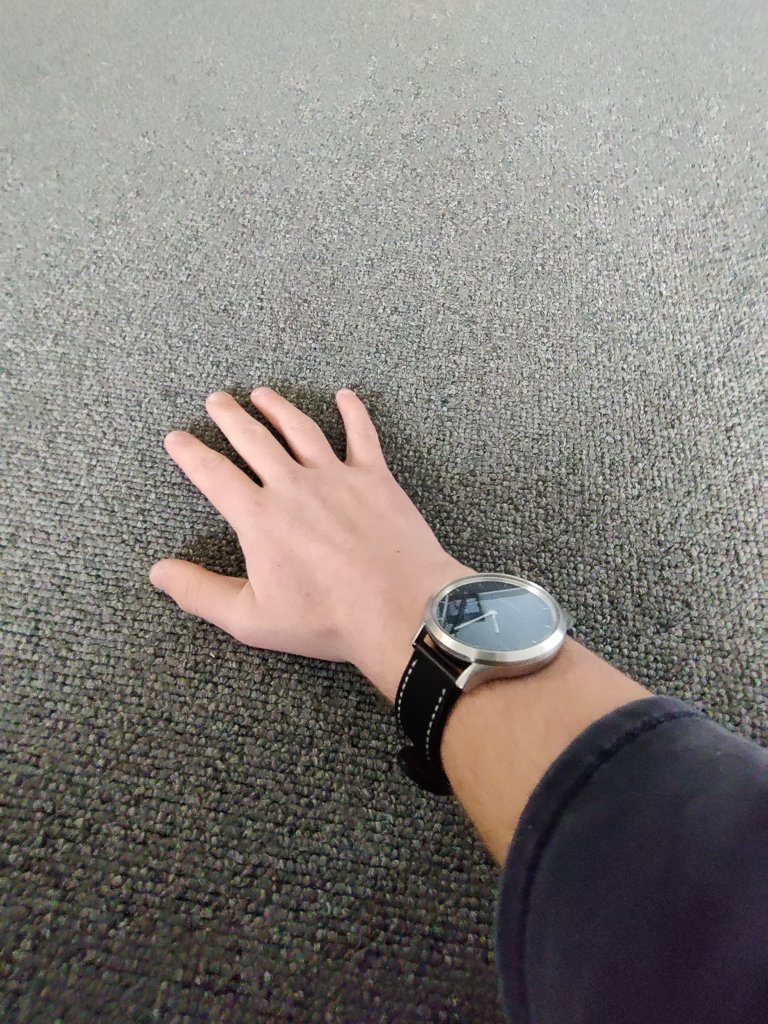Humanoid: (124, 350, 768, 1024)
